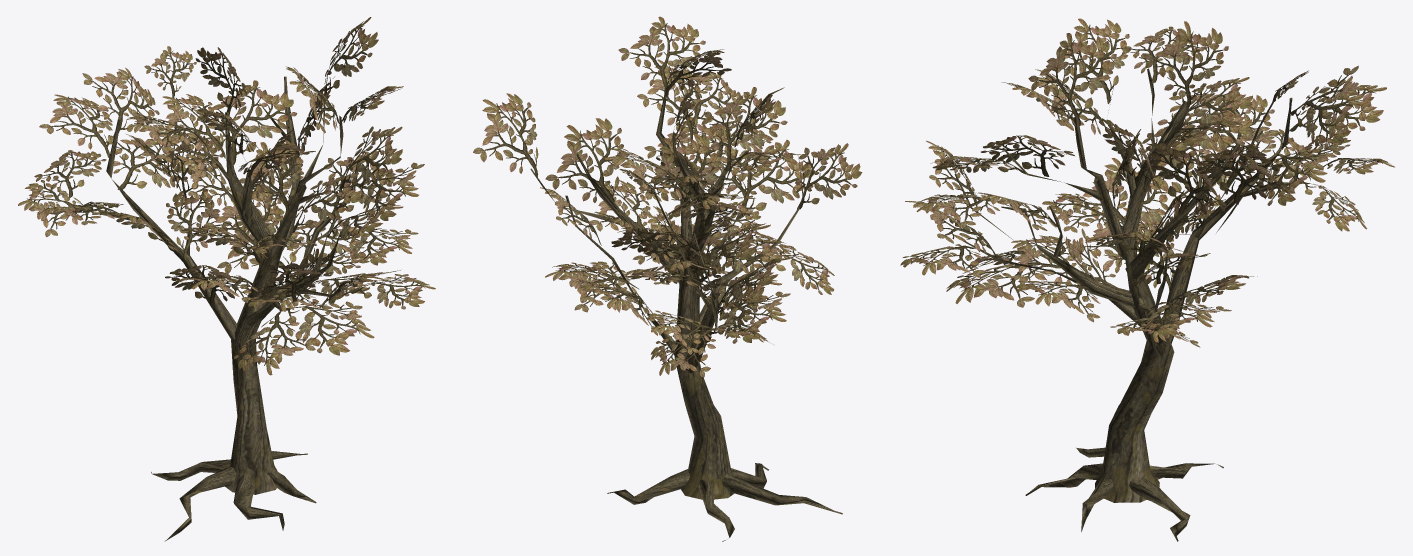
Rendered from tree-2-optimized.glb.
The picture shows the model from 3 angles, left to right: view 1: azimuth 30°, elevation 25°; view 2: azimuth 150°, elevation 25°; view 3: azimuth 270°, elevation 25°; orthographic projection. The views are drawn at different scales.
Parts seen in each view (by area): view 1: leaves_leaves_0, tree_bark_0; view 2: leaves_leaves_0, tree_bark_0; view 3: leaves_leaves_0, tree_bark_0.
Part boxes in pixels (x1,y1,x2,y2): leaves_leaves_0: [18, 17, 435, 375]; tree_bark_0: [91, 76, 384, 541]; leaves_leaves_0: [473, 16, 862, 377]; tree_bark_0: [530, 83, 842, 541]; leaves_leaves_0: [900, 18, 1394, 347]; tree_bark_0: [954, 68, 1292, 541].
Size of the model in its own units: 439 by 562 by 526.
2 materials, 2 textured.
